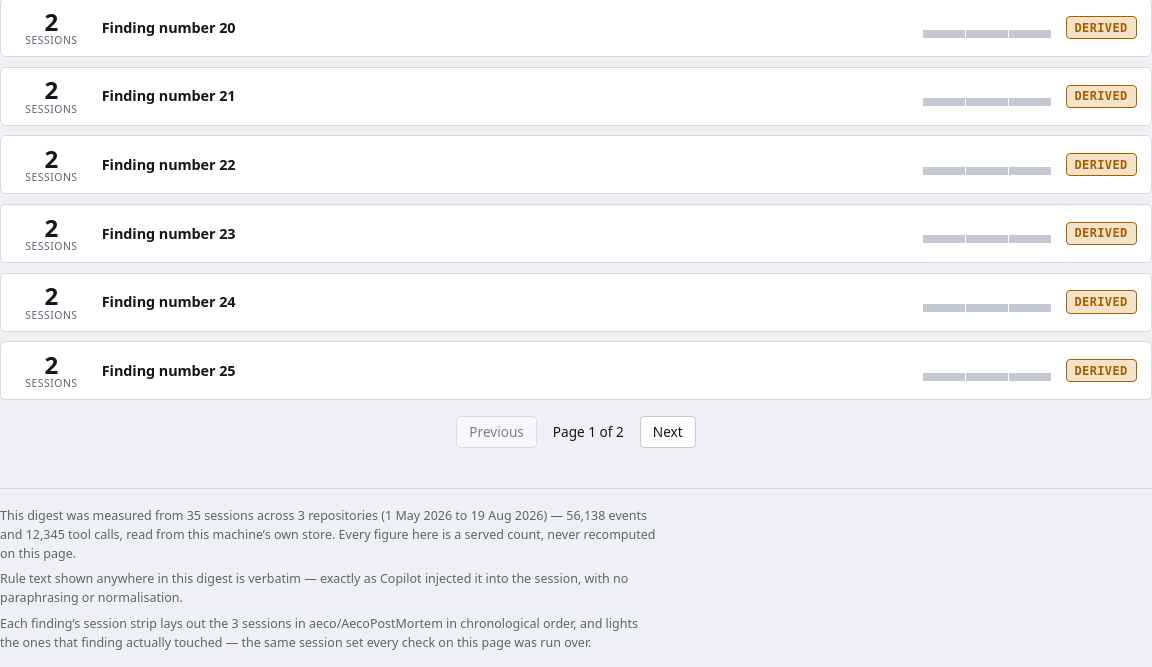
Test: DigestPage › returns to the first page when the repository changes
(page scrolled)
Click the button with aria-label "Next page": [668, 432] box [640,416,696,448]
(page scrolled)
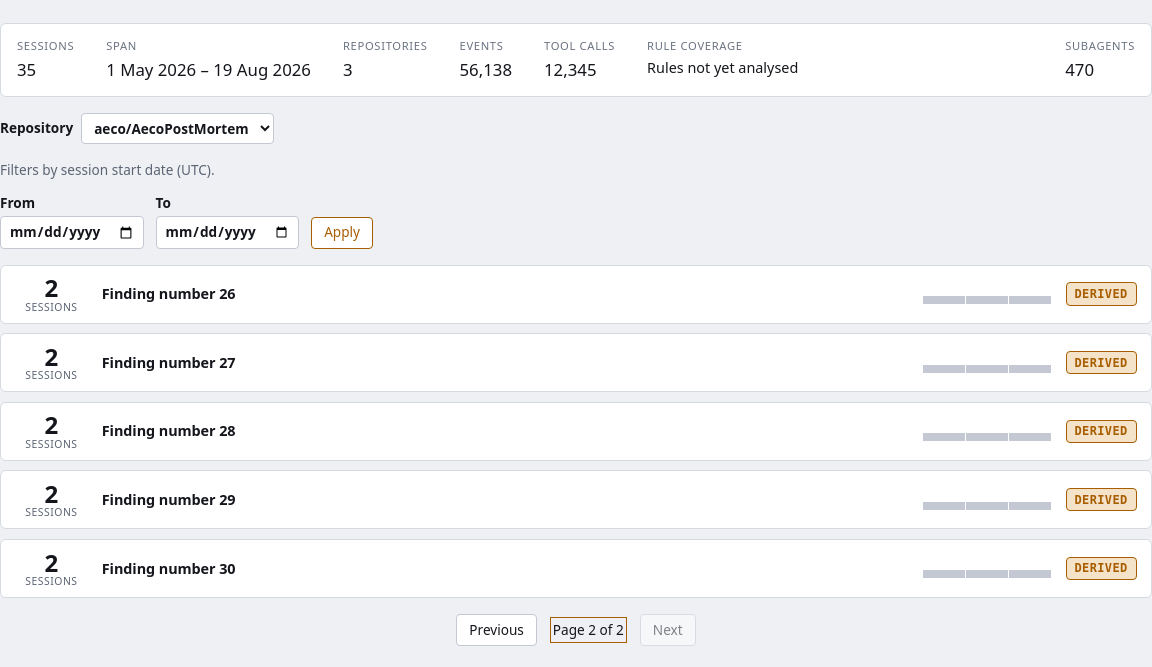
Now the text "Page 2 of 2" is shown, box [553,620,624,640]
Select "aeco/AecoLedger" in the dropdown labelled "Repository": [178, 129] box [81,113,274,144]
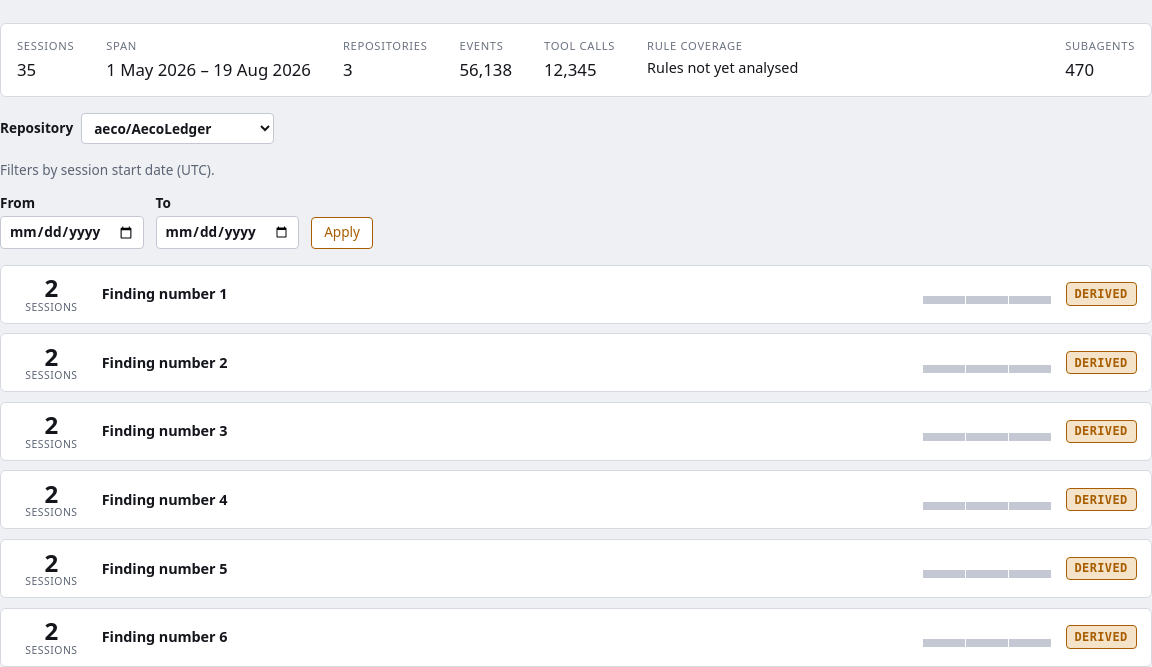
Now the text "Finding number 1" is shown, box [102,284,227,303]
